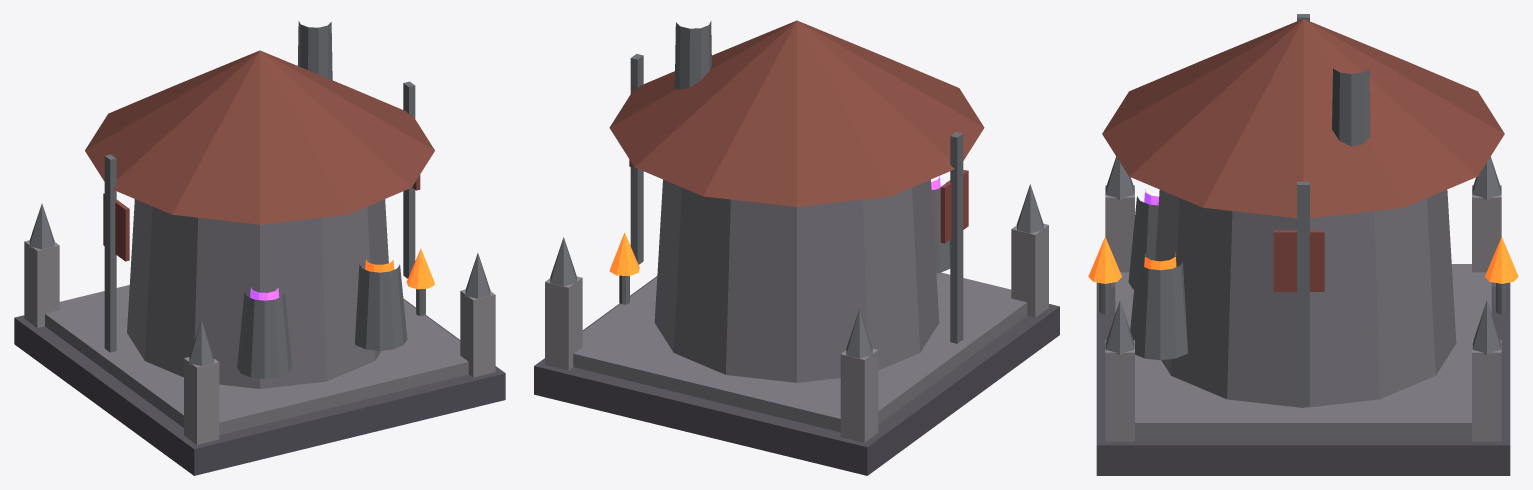
The model's file is laboratory.glb.
3 renders of one model, left to right at view 1: azimuth 30°, elevation 25°; view 2: azimuth 150°, elevation 25°; view 3: azimuth 270°, elevation 25°, orthographic. The views are drawn at different scales.
Parts seen in each view (by area): view 1: Laboratory; view 2: Laboratory; view 3: Laboratory.
Boxes of the visible parts, <box> form: Laboratory: <box>14,21,505,475</box>; Laboratory: <box>534,20,1059,475</box>; Laboratory: <box>1088,14,1518,475</box>.
Size of the model in its own units: 3.9 by 3.85 by 4.06.
